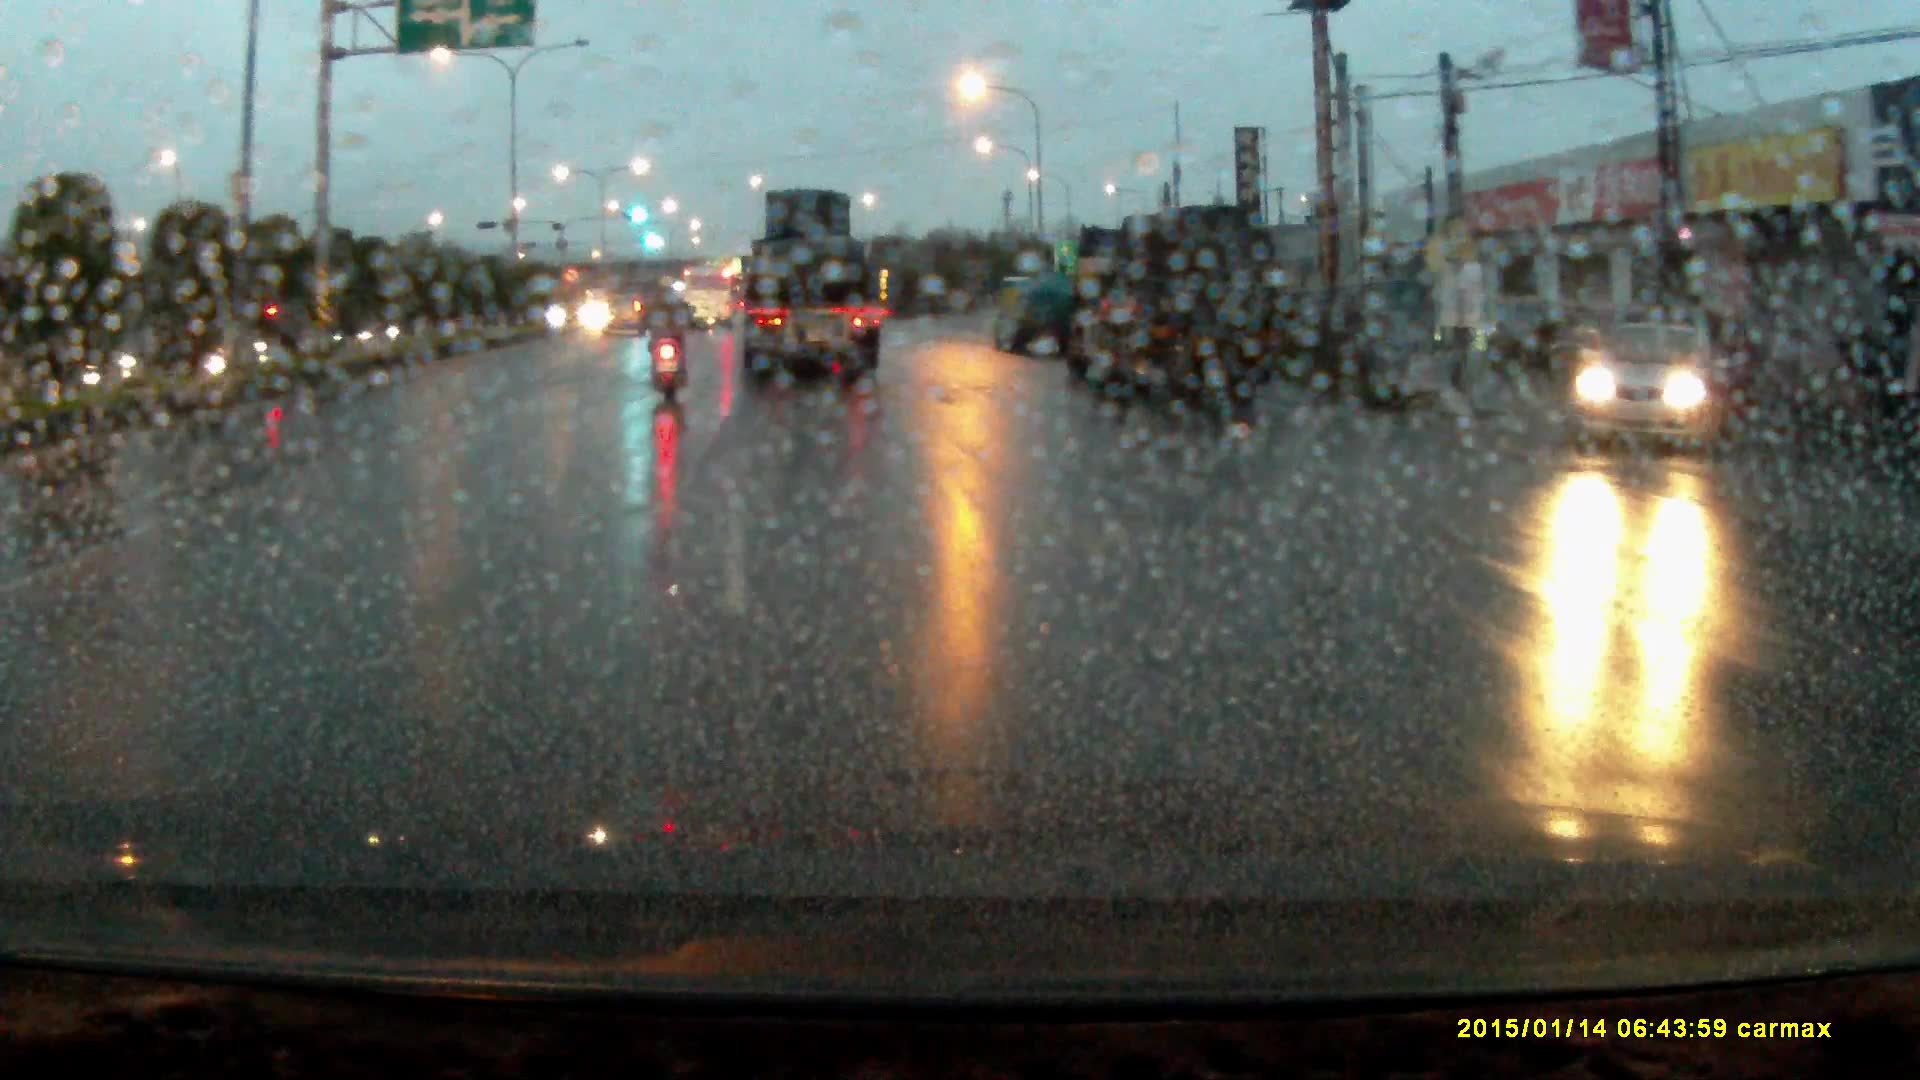rider: (643, 271, 700, 408)
vehicle: (1069, 197, 1292, 412), (743, 192, 883, 385), (1573, 319, 1746, 458), (997, 275, 1082, 357), (686, 267, 734, 330), (597, 288, 650, 336)
